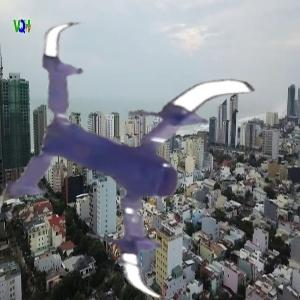drone: (1, 32, 270, 300)
